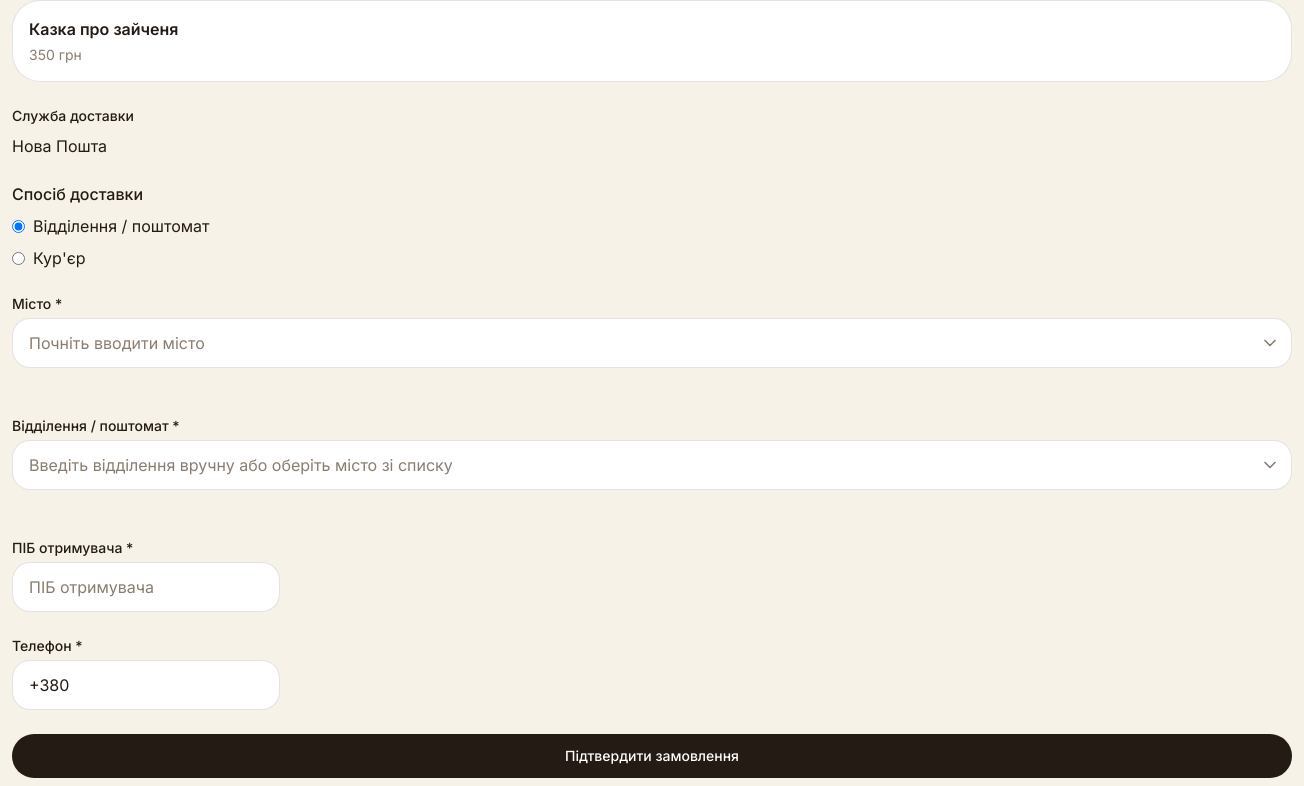
Scenario: CheckoutForm › shows address fields when Кур'єр is selected
Click the radio button labelled "Кур'єр". click: (18, 258)
box: top-left (12, 252), bottom-right (25, 264)
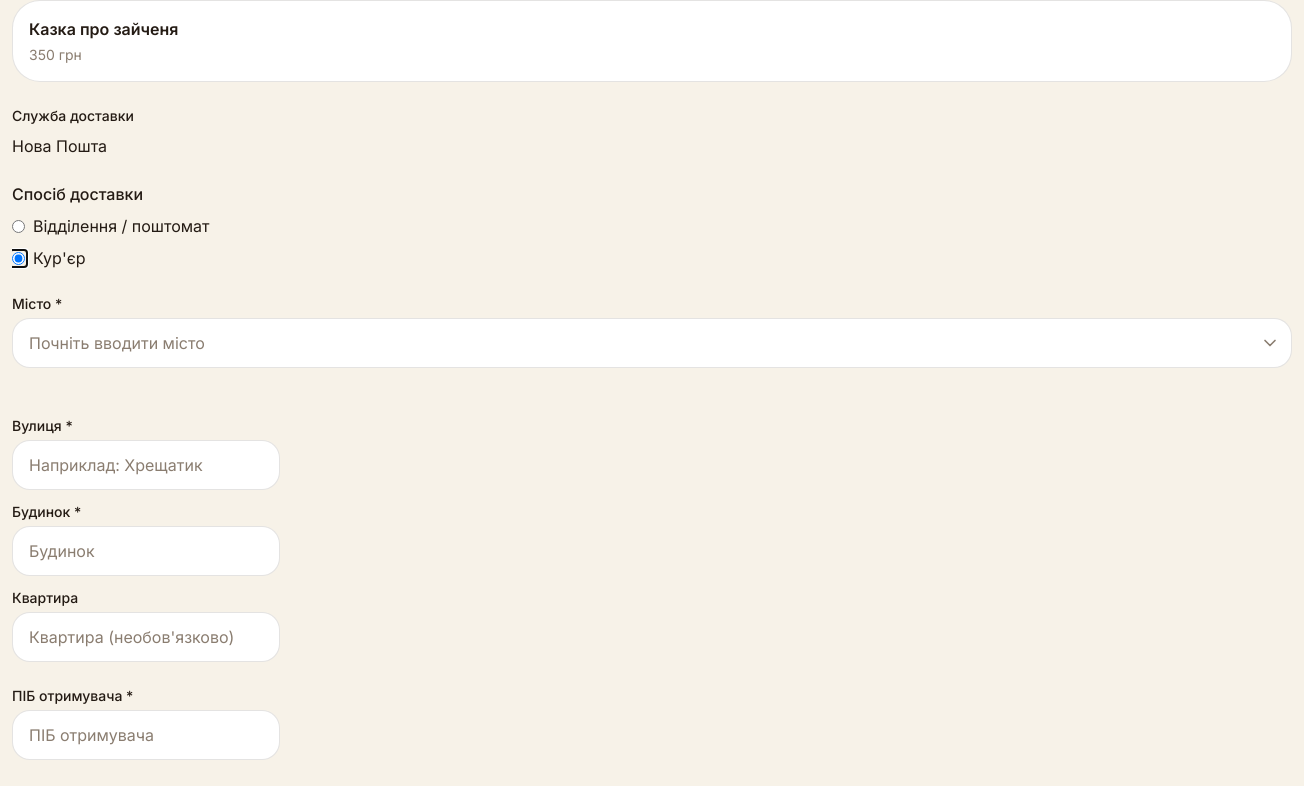
Expected: the dropdown labelled "Відділення / поштомат *" is not shown
Expected: the field with placeholder "Наприклад: Хрещатик" is shown, top-left (12, 440), bottom-right (280, 490)
